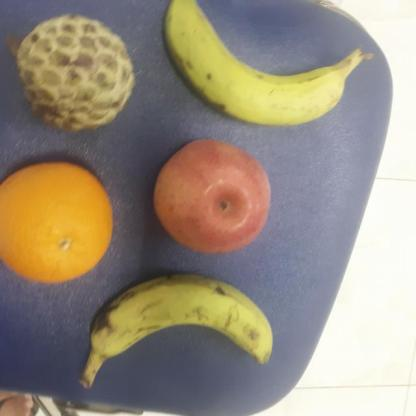annona: (3, 11, 140, 134)
apple: (151, 136, 275, 256)
banana: (161, 0, 358, 130), (90, 271, 274, 371)
orange: (0, 160, 118, 285)
